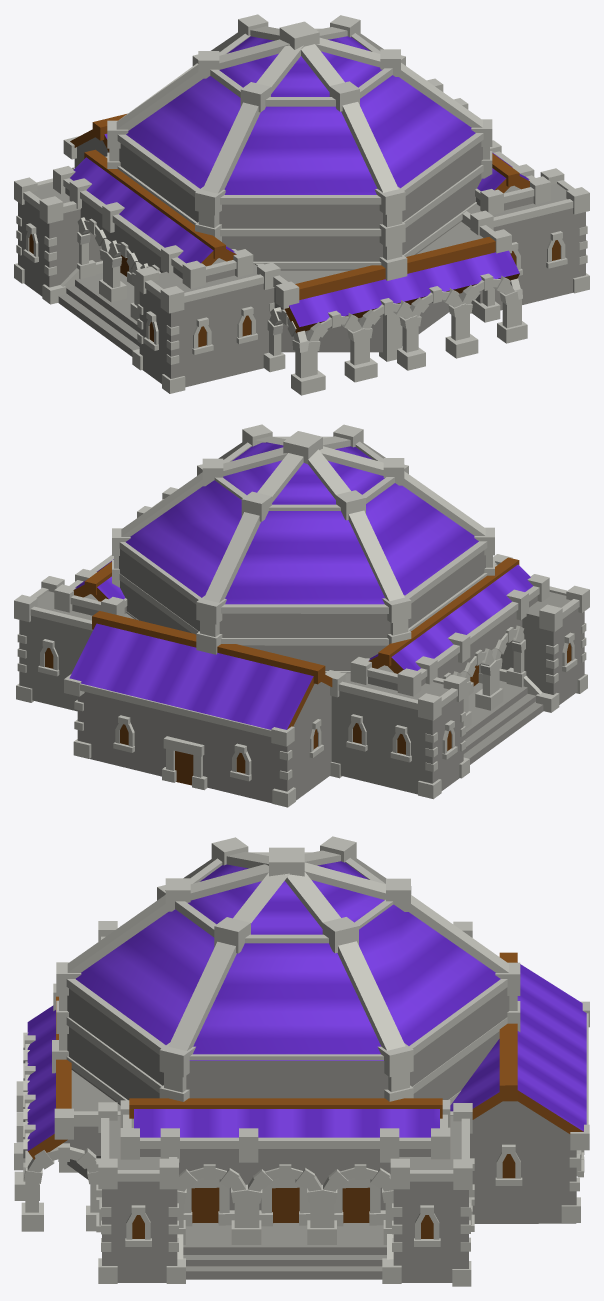
File: greatlibrary.fbx
3 renders of one model, top to bottom at view 1: azimuth 30°, elevation 25°; view 2: azimuth 150°, elevation 25°; view 3: azimuth 270°, elevation 25°, orthographic. The views are drawn at different scales.
Parts seen in each view (by area): view 1: polySurface1371; view 2: polySurface1371; view 3: polySurface1371.
Part boxes in pixels (x1=…): polySurface1371: x1=14, y1=14, x2=589, y2=395; polySurface1371: x1=14, y1=424, x2=589, y2=807; polySurface1371: x1=14, y1=836, x2=589, y2=1286.
Size of the model in its own units: 404 by 237 by 396.
1 material, 1 textured.
